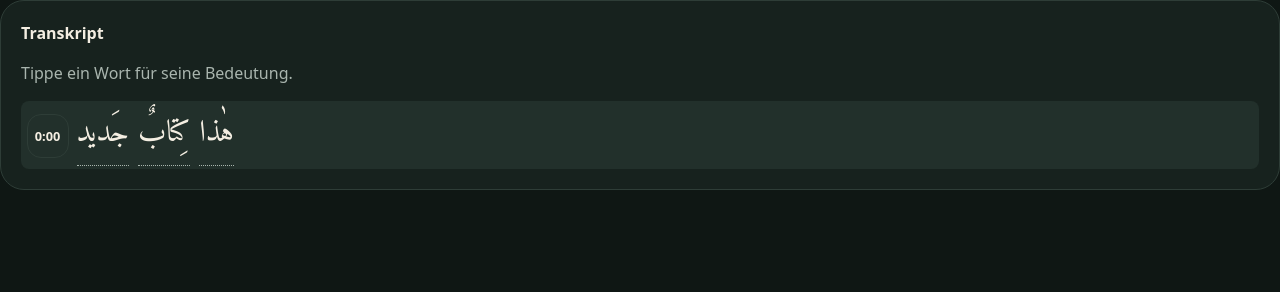
it: Tap-to-gloss › shows the meaning of a tapped word
Click the button "كِتابٌ". click: (164, 135)
box: [138,104,190,166]
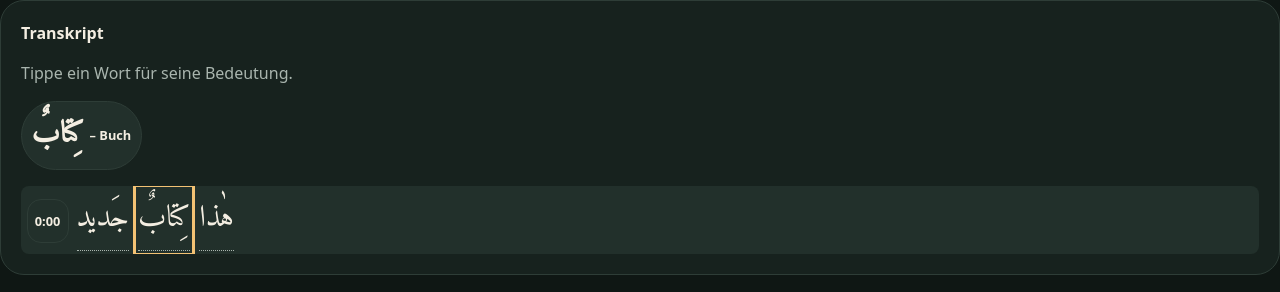
Now the message shows "Buch", box [90,126,131,144]
